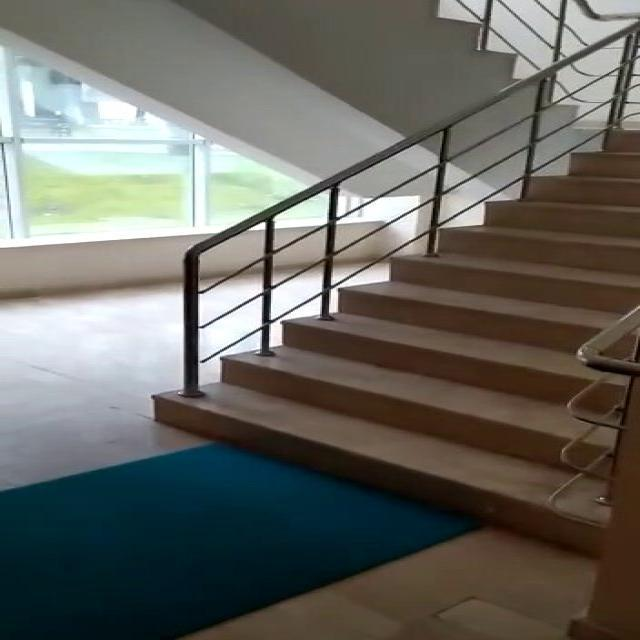stairs: (151, 125, 638, 552)
